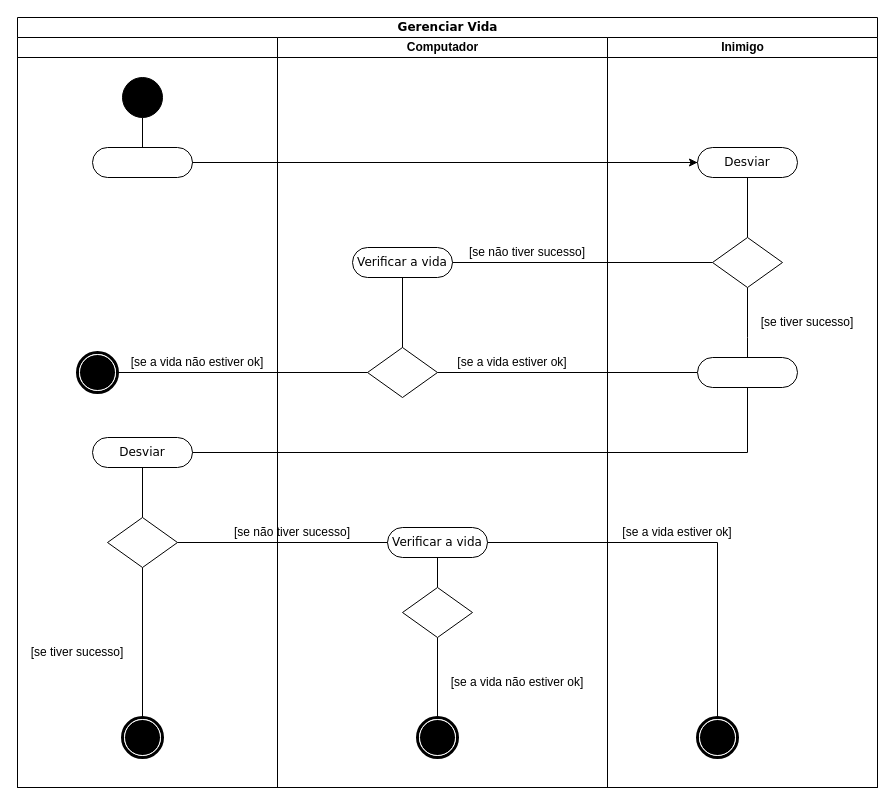
Some shapes in this 895 by 805 pixel diagram are drawn without their labels. The box of each missing label's shape, as (x1, y1, x2, y2) in pixels:
Atacar Jogador: (696, 356, 798, 388)
Atacar o inimigo: (92, 146, 192, 178)
Jogador: (16, 36, 278, 788)
